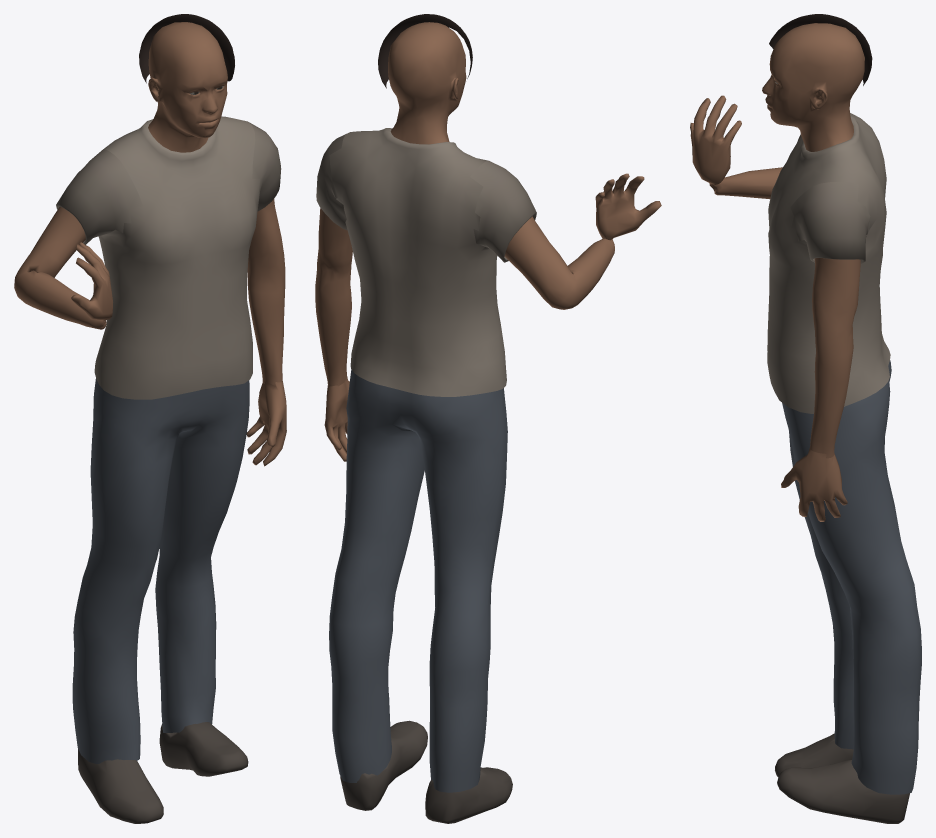
Rendered from participant-10-middle.glb.
3 renders of one model, left to right at view 1: azimuth 30°, elevation 25°; view 2: azimuth 150°, elevation 25°; view 3: azimuth 270°, elevation 25°, orthographic. The views are drawn at different scales.
Parts seen in each view (by area): view 1: Participant anatomy and ordinary clothes; view 2: Participant anatomy and ordinary clothes; view 3: Participant anatomy and ordinary clothes.
Boxes of the visible parts, left/top/right/bottom form: Participant anatomy and ordinary clothes: left=14, top=14, right=286, bottom=823; Participant anatomy and ordinary clothes: left=315, top=14, right=661, bottom=823; Participant anatomy and ordinary clothes: left=690, top=14, right=921, bottom=823.
Size of the model in its own units: 0.6561 by 1.75 by 0.466.
